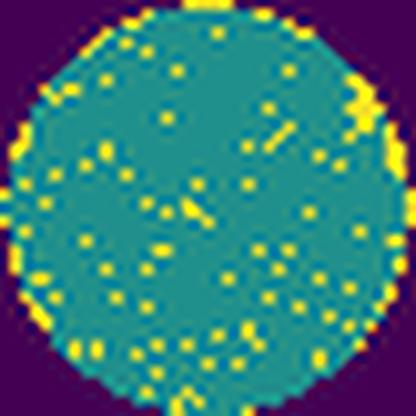Edge-Loc: (340, 65, 386, 150), (380, 116, 409, 184)
